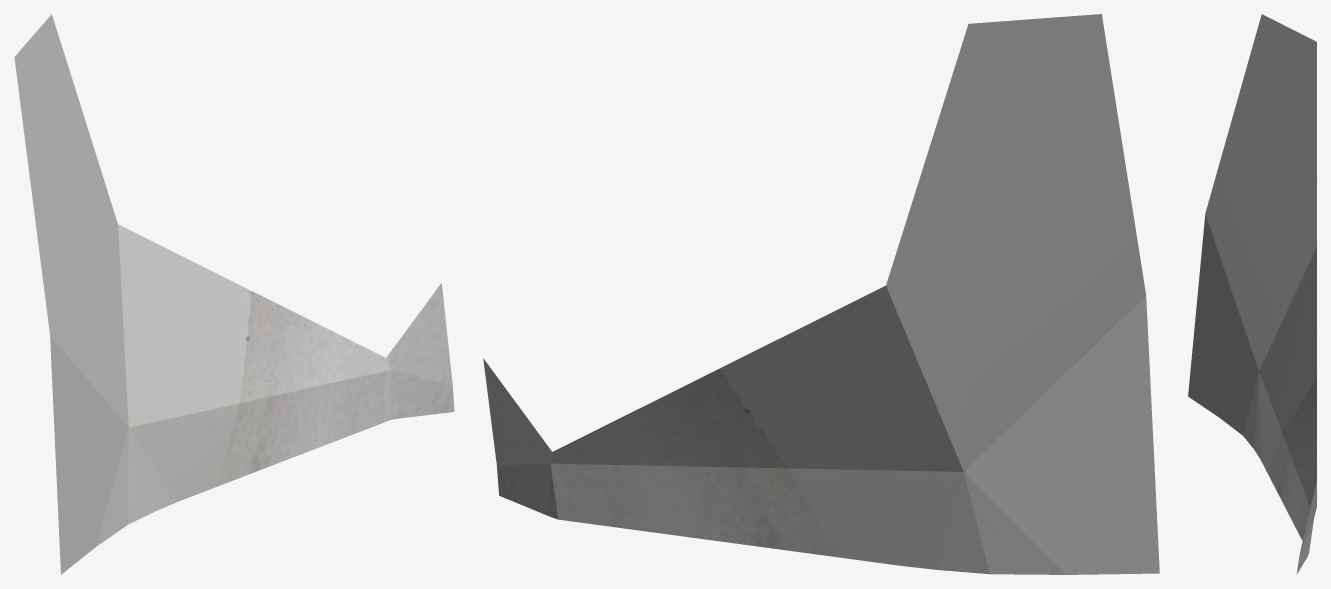
The picture shows the model from 3 angles, left to right: view 1: azimuth 30°, elevation 25°; view 2: azimuth 150°, elevation 25°; view 3: azimuth 270°, elevation 25°; orthographic projection. The views are drawn at different scales.
Size of the model in its own units: 2.95 by 2.95 by 0.9006.
2 materials, 2 textured.
